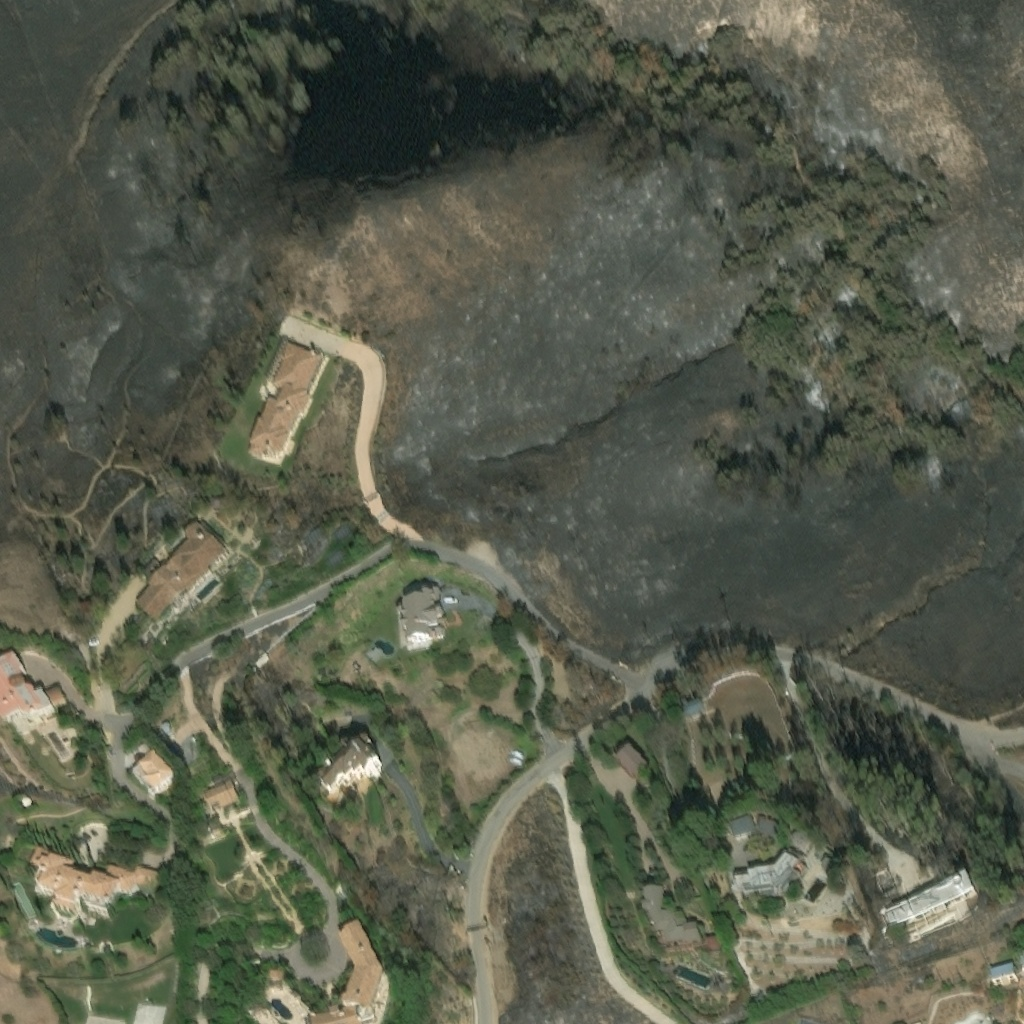0 no-damage: (134, 522, 227, 625), (245, 343, 323, 464), (29, 844, 158, 916), (304, 923, 389, 1023), (882, 873, 977, 938), (0, 648, 64, 720), (638, 886, 703, 953), (729, 848, 804, 905), (315, 743, 385, 792), (399, 584, 446, 653), (132, 749, 178, 796), (728, 815, 781, 838), (615, 744, 649, 779), (201, 777, 239, 807), (988, 963, 1018, 988), (872, 863, 896, 892), (681, 697, 705, 715), (705, 936, 723, 954), (269, 969, 284, 981), (727, 780, 741, 791)
